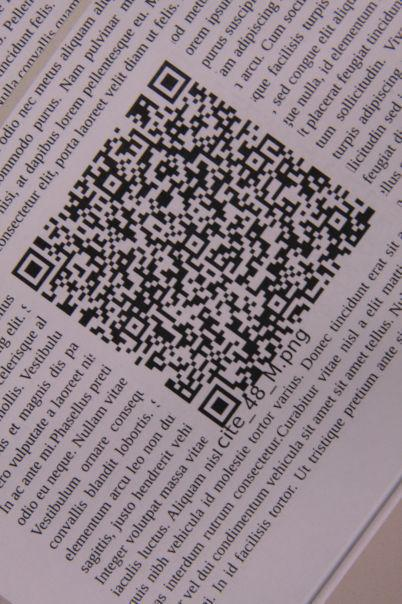Finder pattern: (195, 385, 247, 430), (145, 57, 193, 104), (10, 248, 56, 290)
